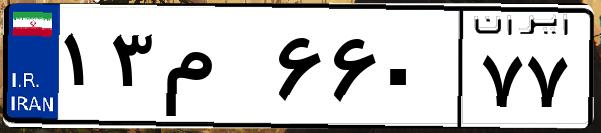0: (385, 28, 445, 110)
1: (57, 26, 110, 100)
3: (110, 28, 158, 98)
6: (270, 28, 330, 110), (330, 28, 385, 110)
7: (475, 38, 525, 113), (525, 38, 570, 115)
م: (158, 20, 270, 120)
